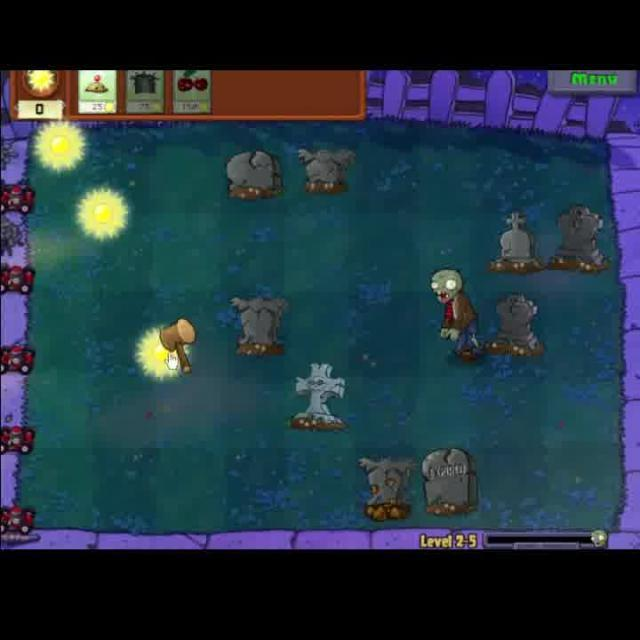sunshine: (127, 319, 194, 383), (71, 186, 136, 246), (32, 115, 89, 179)
zombies: (425, 264, 483, 364)
